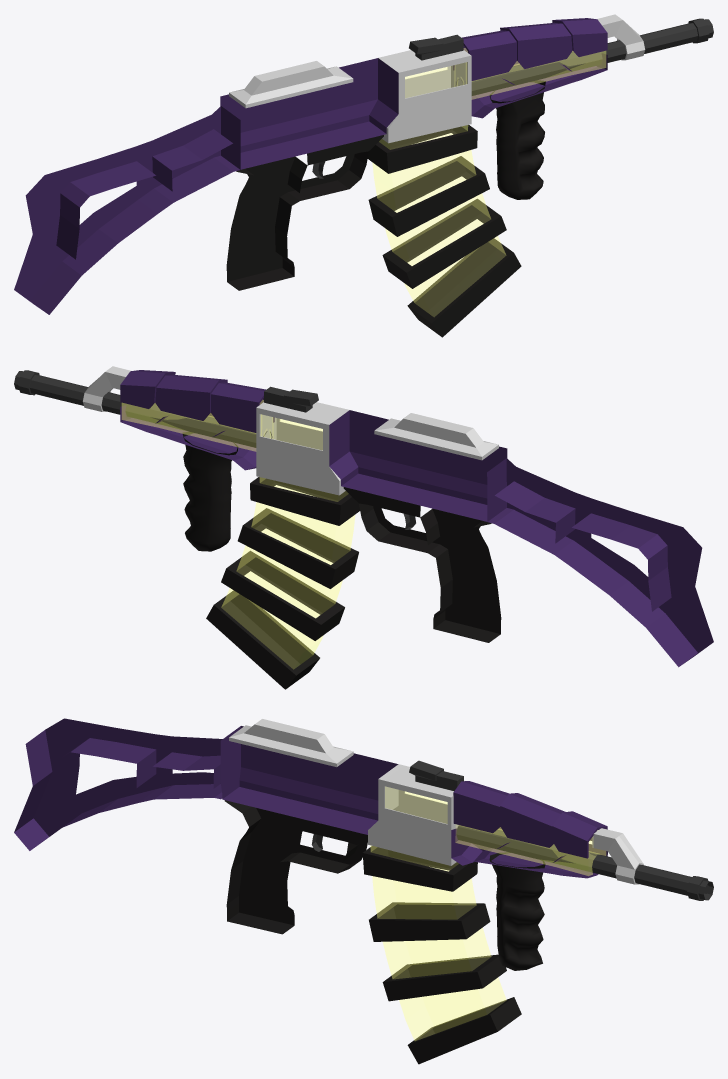
Rendered from Futuristic_Ak_47.fbx.
The picture shows the model from 3 angles, top to bottom: view 1: azimuth 30°, elevation 25°; view 2: azimuth 150°, elevation 25°; view 3: azimuth 330°, elevation 25°; orthographic projection.
Visible parts, largest first — view 1: Vert.002; view 2: Vert.002; view 3: Vert.002.
Part boxes in pixels (x1,y1,x2,y2): Vert.002: (14,14,713,337); Vert.002: (14,366,713,689); Vert.002: (14,718,713,1064).
Bounding box in the file's own units: 383 × 156 × 23.69.
